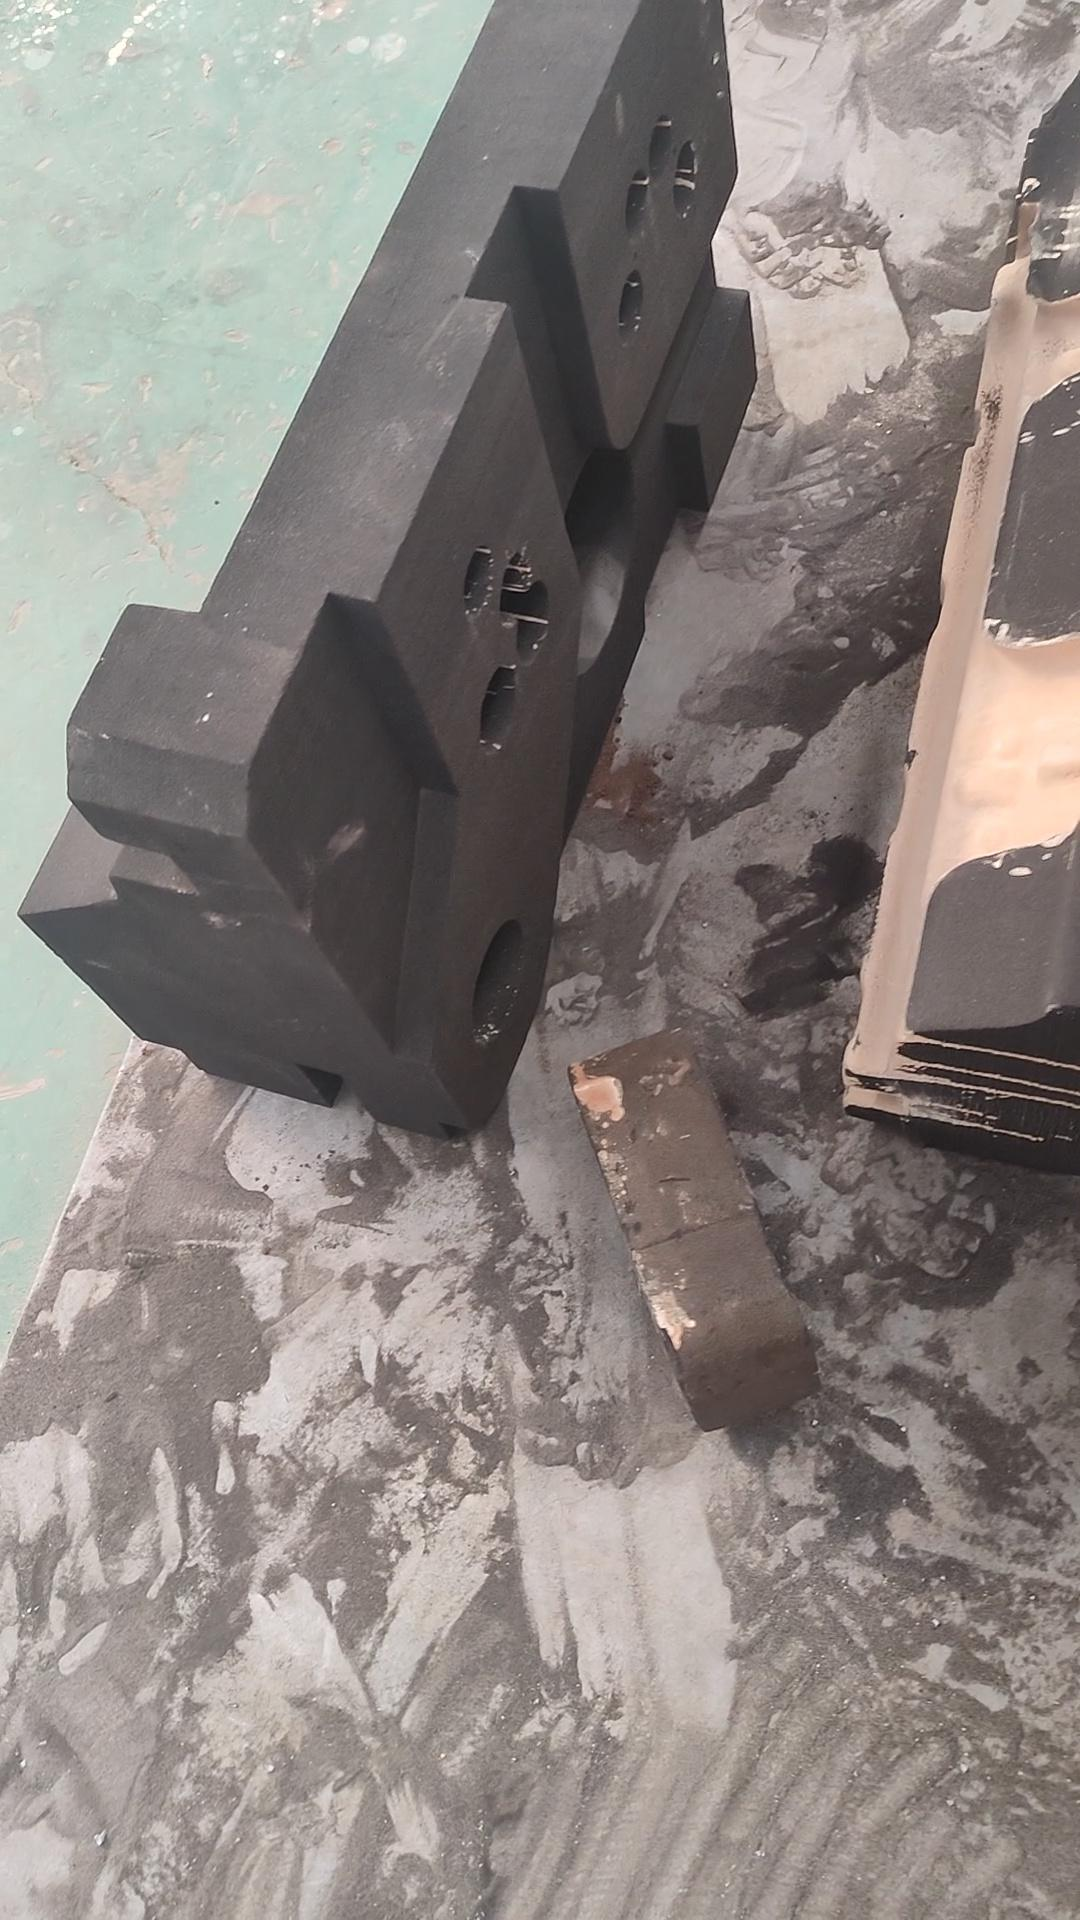pouring hole: (471, 920, 526, 1048)
